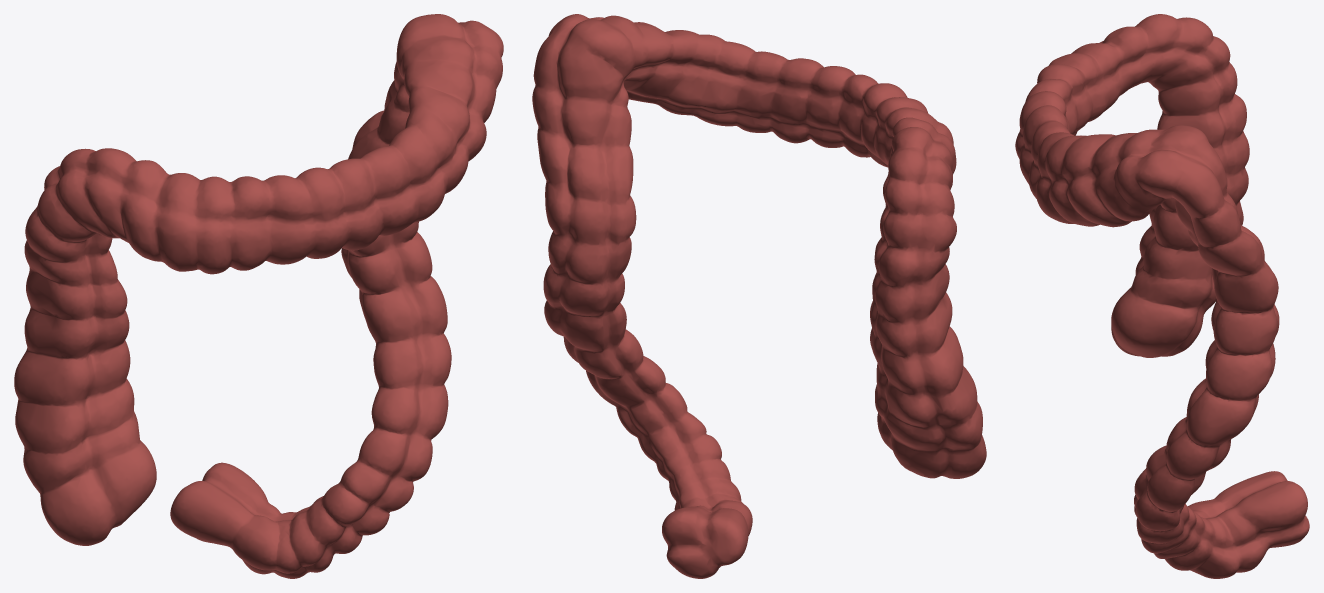
The model's file is FMA14543nsn.glb.
The picture shows the model from 3 angles, left to right: view 1: azimuth 30°, elevation 25°; view 2: azimuth 150°, elevation 25°; view 3: azimuth 270°, elevation 25°; orthographic projection. The views are drawn at different scales.
Visible parts, largest first — view 1: FMA14543nsn; view 2: FMA14543nsn; view 3: FMA14543nsn.
Boxes of the visible parts, <box> form: FMA14543nsn: <box>14,14,503,578</box>; FMA14543nsn: <box>532,14,986,578</box>; FMA14543nsn: <box>1015,14,1309,578</box>.
Bounding box in the file's own units: 0.2184 × 0.241 × 0.1269.
